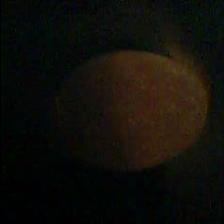fertile: (60, 50, 208, 168)
